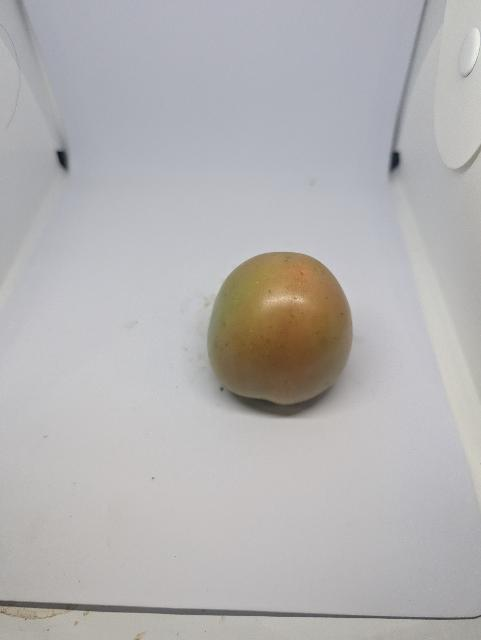breaker: (208, 252, 353, 404)
